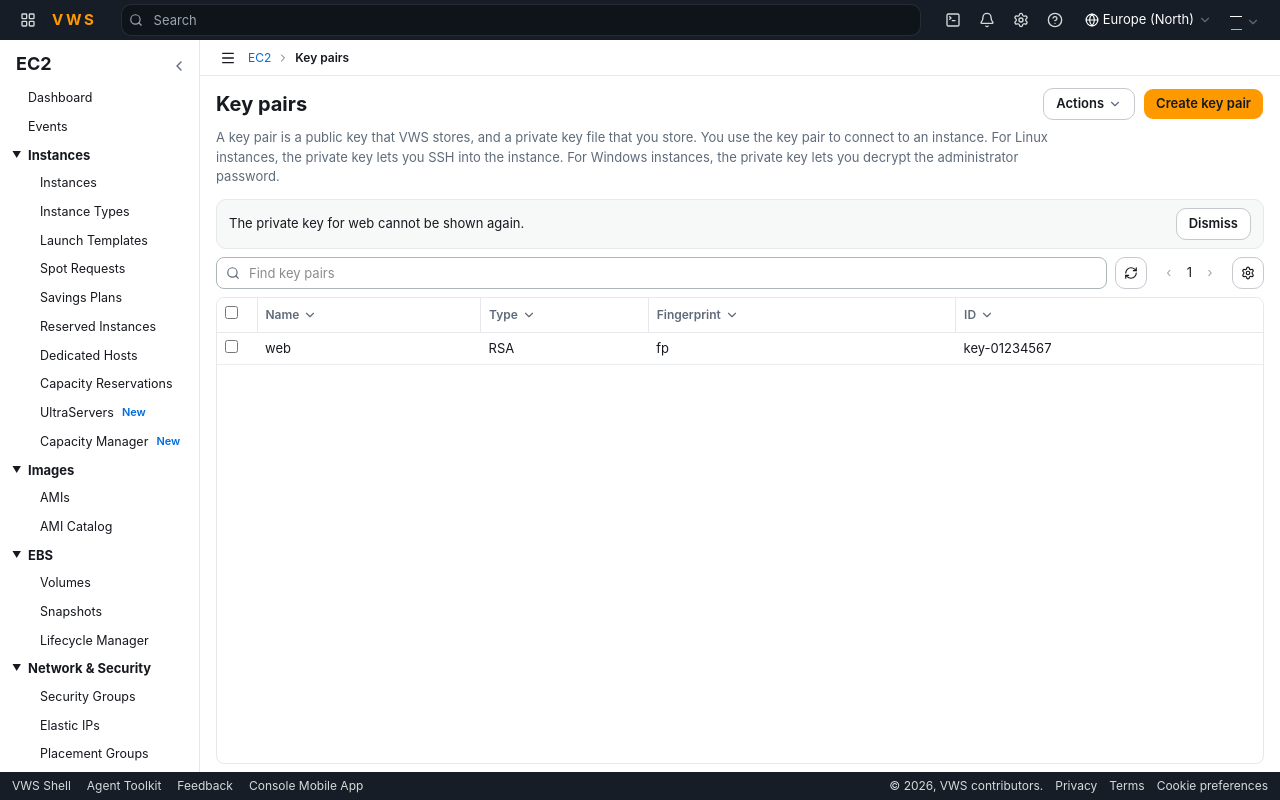
Scenario: key pair create recovery › drops the warning when the last pending name is dismissed
Check: the message shows "The private key for web cannot be shown again.", box [216, 198, 1264, 248]
Click the button "Dismiss": {"x": 1213, "y": 224} [1176, 208, 1251, 240]
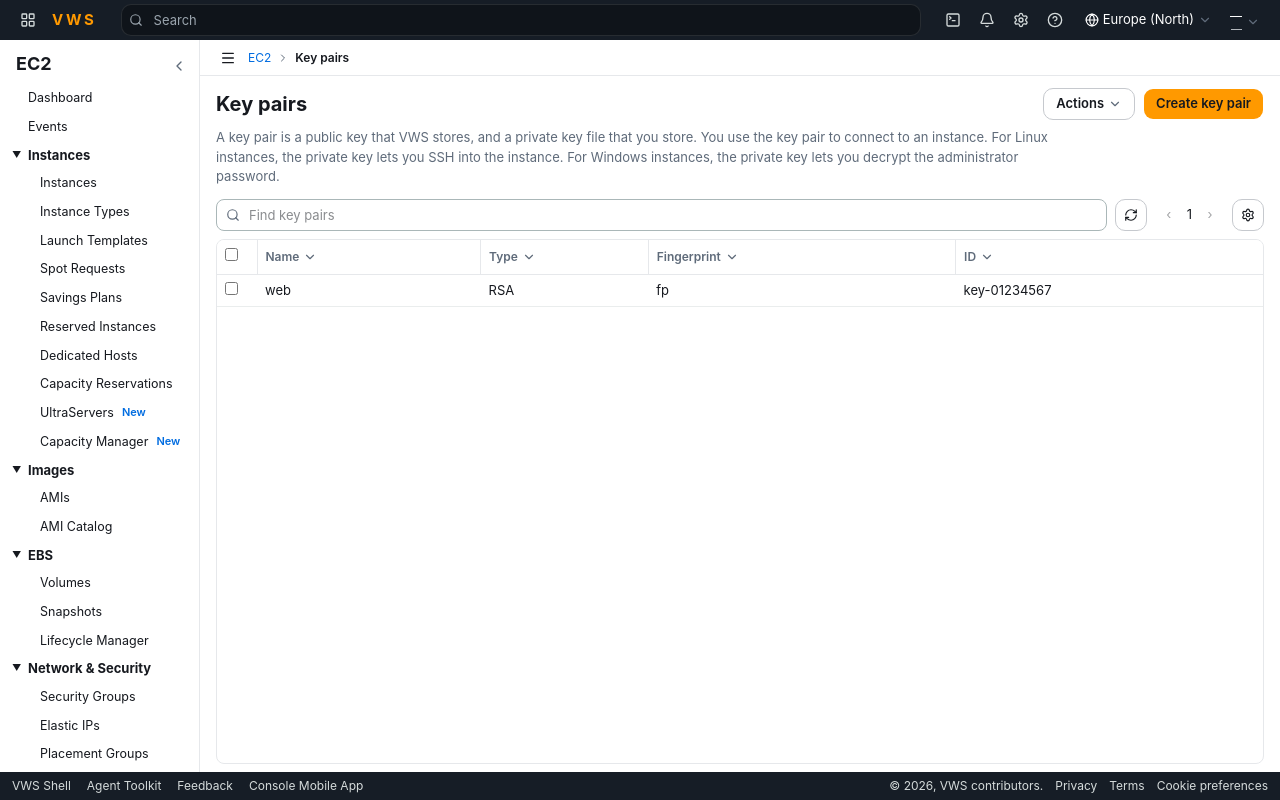
Check: the message "The private key for web cannot be shown again. Dismiss" is gone
